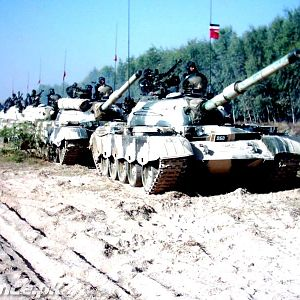Battle Tank: (100, 83, 299, 191), (39, 90, 127, 171)
